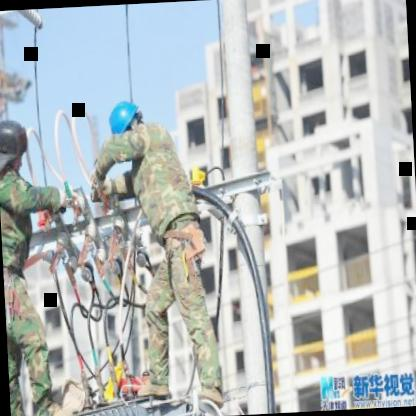helmet: (107, 96, 148, 147), (0, 111, 28, 170)
